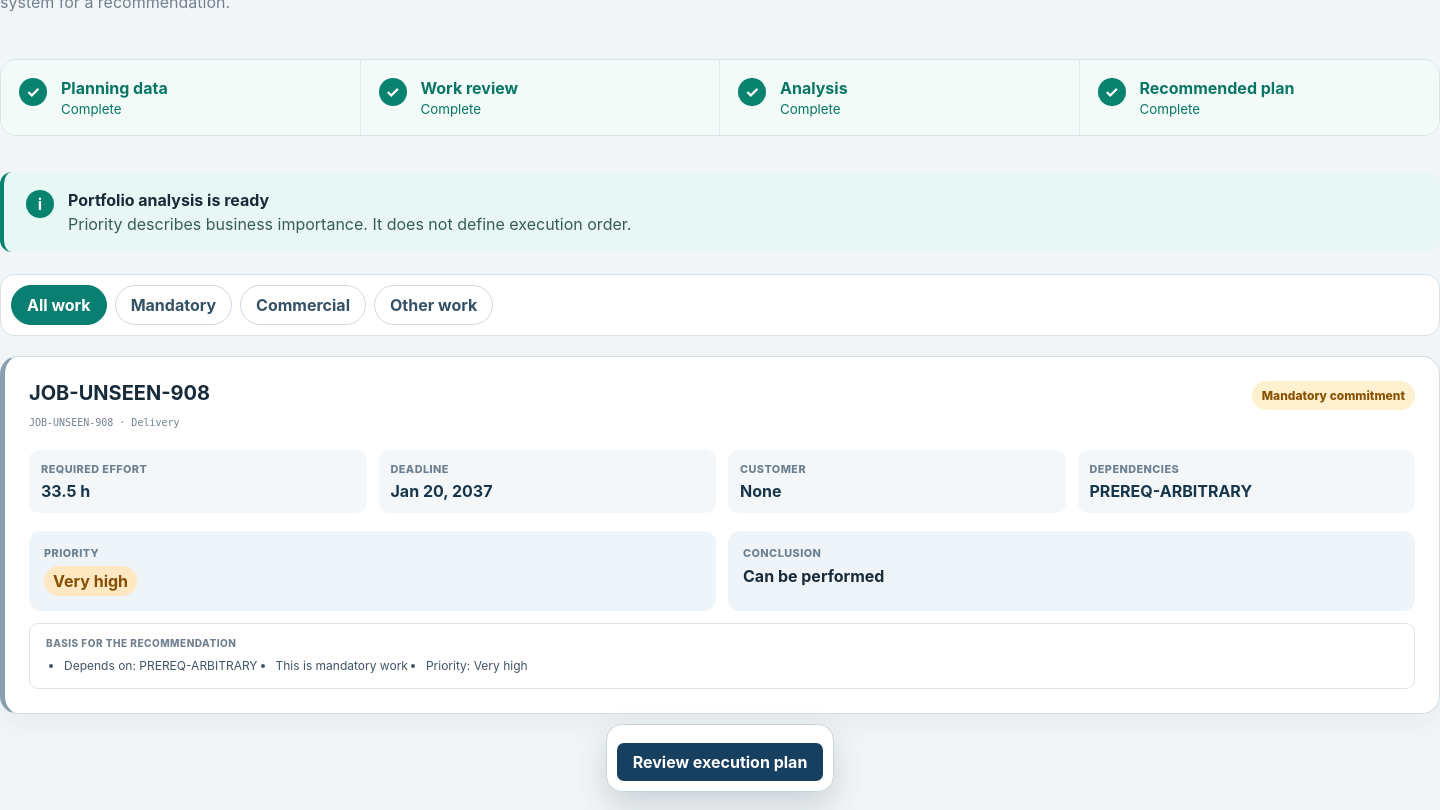
WorkItems staged workflow › suggests best, partial, and unsuitable employees when a generated-plan work item is selected
This screenshot has width=1440, height=810.
(page scrolled)
Click the button "JOB-UNSEEN-908". click: x=720, y=693
box: [0,356,1439,714]
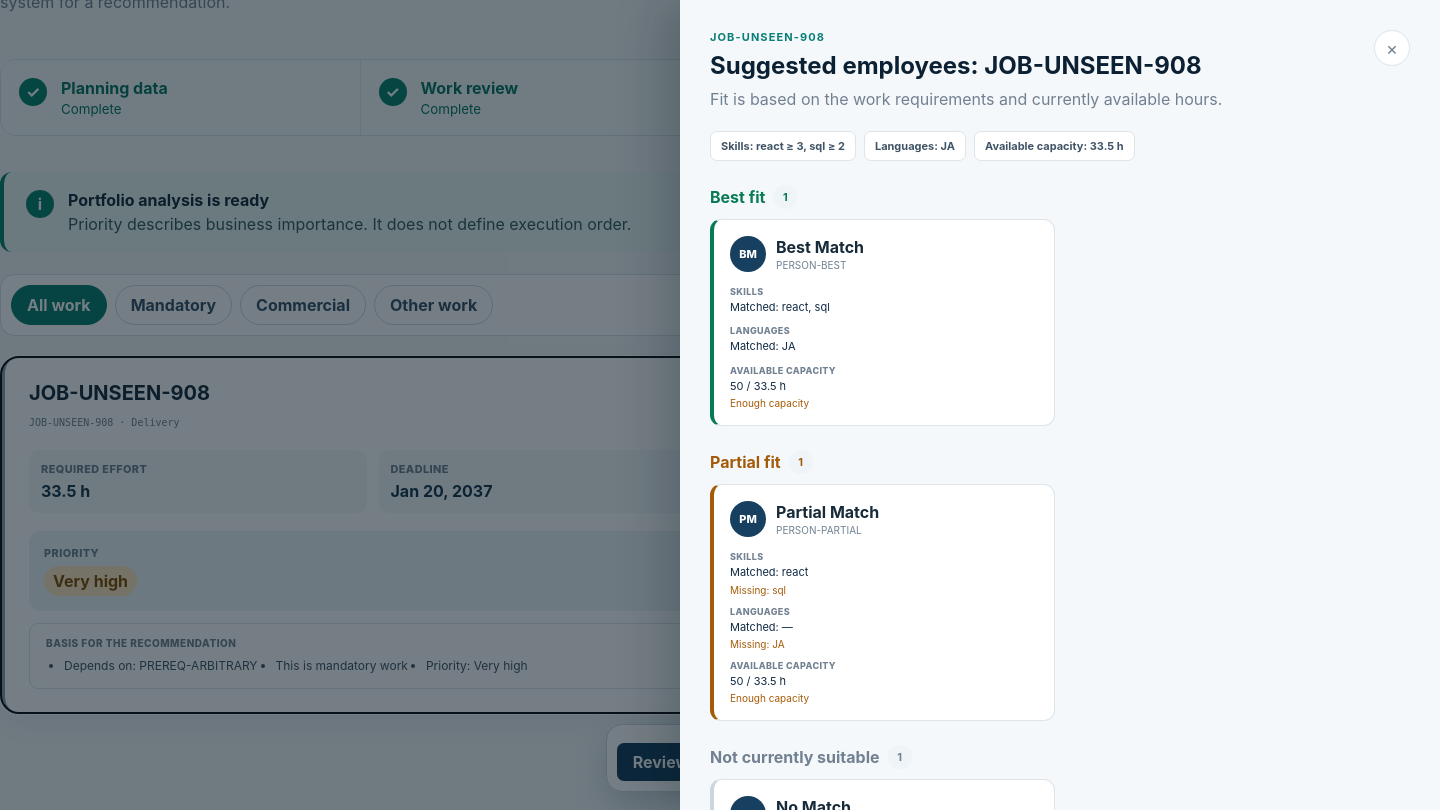
Now the dialog is shown
Now the heading "Suggested employees: JOB-UNSEEN-908" is shown, box [710,51,1222,80]
Now the text "Best Match" is shown, box [776,237,864,257]
